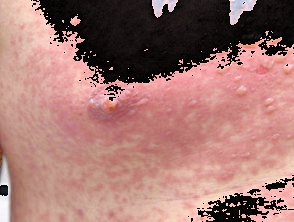SJS-TEN: (19, 19, 294, 200)
